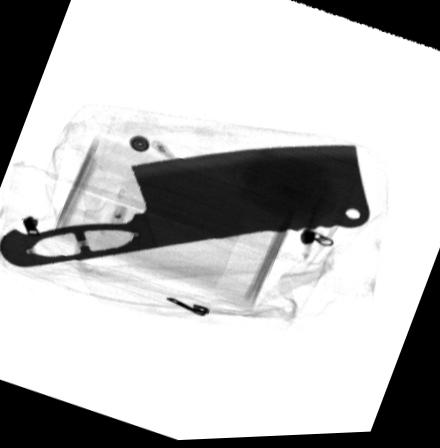Knife: (0, 146, 370, 268)
